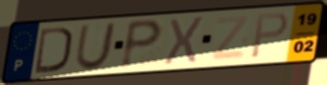D: (33, 25, 74, 76)
P: (118, 18, 166, 71), (248, 11, 290, 61)
U: (73, 21, 118, 72)
X: (162, 15, 207, 67)
Z: (209, 14, 253, 63)
